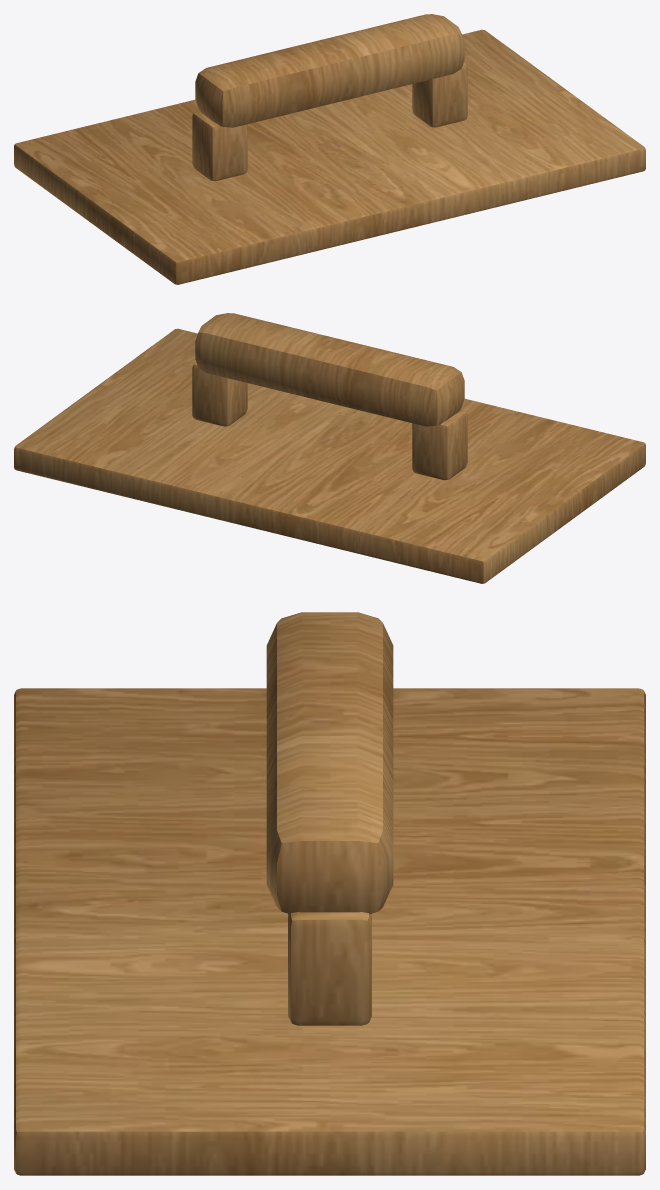
Rendered from EQP-MAO-007.glb.
3 renders of one model, top to bottom at view 1: azimuth 30°, elevation 25°; view 2: azimuth 150°, elevation 25°; view 3: azimuth 270°, elevation 25°, orthographic. The views are drawn at different scales.
Parts seen in each view (by area): view 1: EQP-MAO-007_chapa, EQP-MAO-007_cabo, EQP-MAO-007_apoio-1, EQP-MAO-007_apoio1; view 2: EQP-MAO-007_chapa, EQP-MAO-007_cabo, EQP-MAO-007_apoio-1, EQP-MAO-007_apoio1; view 3: EQP-MAO-007_chapa, EQP-MAO-007_cabo, EQP-MAO-007_apoio1.
Part boxes in pixels (bbox=[...]): EQP-MAO-007_chapa: bbox=[14, 29, 645, 284]; EQP-MAO-007_cabo: bbox=[195, 14, 464, 127]; EQP-MAO-007_apoio-1: bbox=[192, 111, 247, 181]; EQP-MAO-007_apoio1: bbox=[412, 62, 467, 127]; EQP-MAO-007_chapa: bbox=[14, 328, 645, 583]; EQP-MAO-007_cabo: bbox=[195, 313, 464, 426]; EQP-MAO-007_apoio-1: bbox=[412, 410, 467, 480]; EQP-MAO-007_apoio1: bbox=[192, 361, 247, 426]; EQP-MAO-007_chapa: bbox=[14, 688, 645, 1175]; EQP-MAO-007_cabo: bbox=[266, 612, 393, 913]; EQP-MAO-007_apoio1: bbox=[288, 912, 371, 1025].
Size of the model in its own units: 0.3 by 0.075 by 0.18.
1 material, 1 textured.
